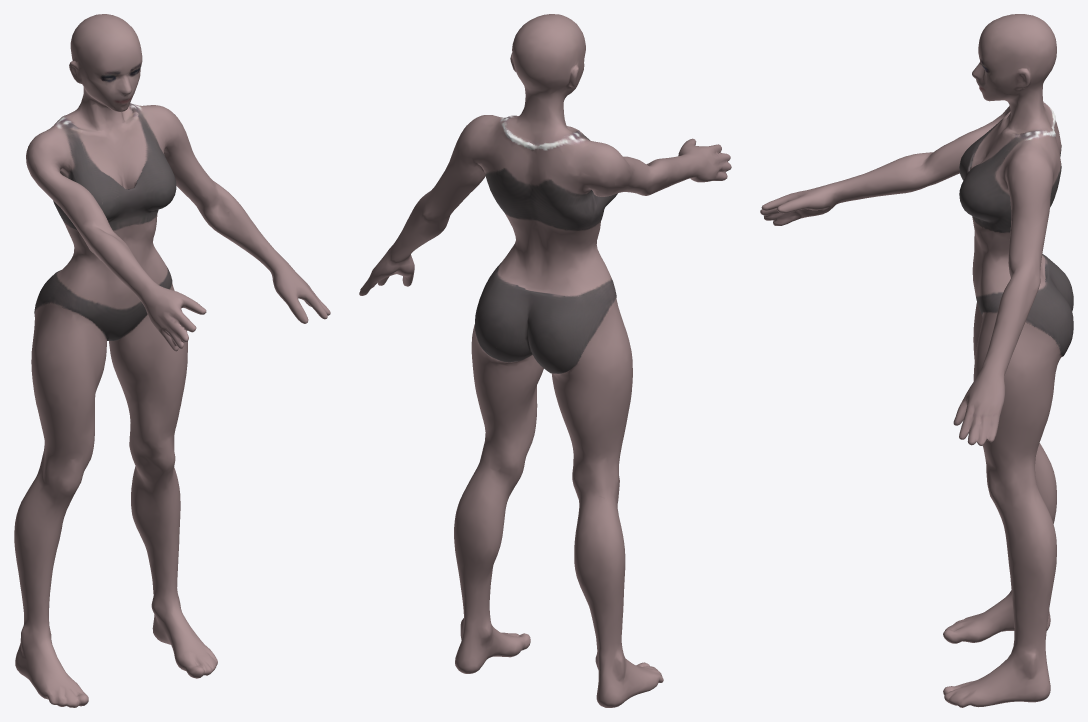
The model's file is 01-UpperArmL-60-child0-twist0-baseline.glb.
3 views of the same model, side by side, from view 1: azimuth 30°, elevation 25°; view 2: azimuth 150°, elevation 25°; view 3: azimuth 270°, elevation 25° (orthographic). The views are drawn at different scales.
Visible parts, largest first — view 1: baseline; view 2: baseline; view 3: baseline.
Part boxes in pixels (x1,y1,x2,y2): baseline: [14, 14, 330, 707]; baseline: [359, 14, 731, 707]; baseline: [760, 14, 1073, 707].
Bounding box in the file's own units: 0.4619 × 1 × 0.4362.
Materials: 1 (1 with a texture image).
